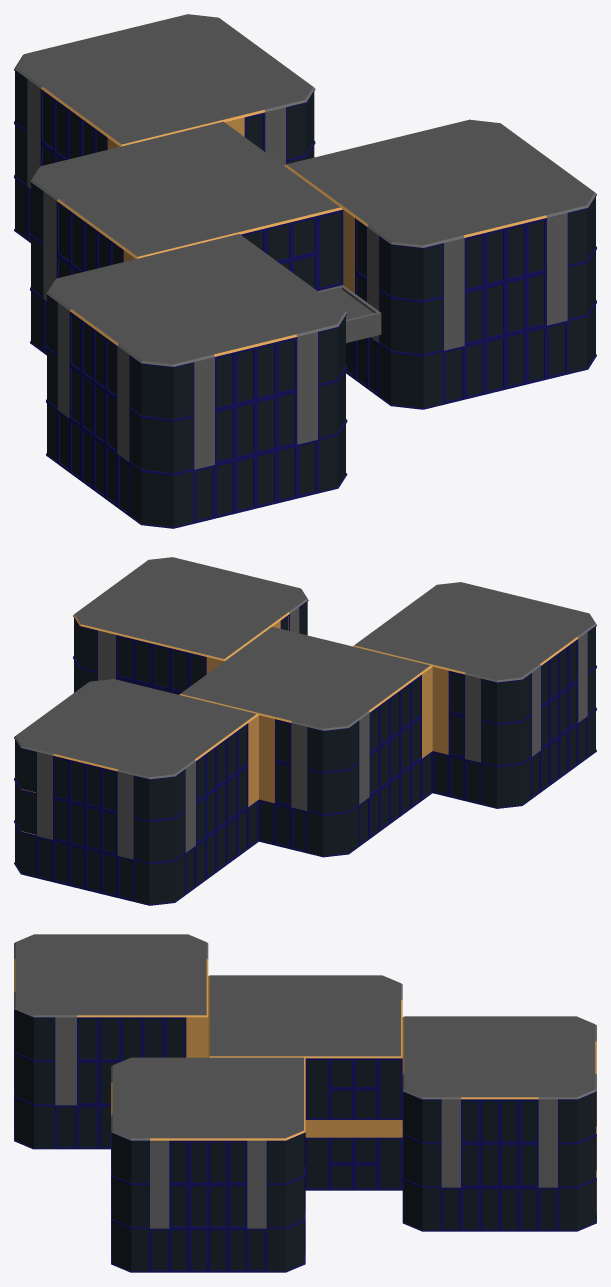
3 views of the same model, one above another, from view 1: azimuth 30°, elevation 25°; view 2: azimuth 150°, elevation 25°; view 3: azimuth 270°, elevation 25° (orthographic). The views are drawn at different scales.
Parts seen in each view (by area): view 1: Box002; view 2: Box002; view 3: Box002.
Part boxes in pixels (box(x1,y1,x2,y2)): Box002: box(14, 14, 596, 528); Box002: box(14, 557, 596, 905); Box002: box(14, 934, 596, 1272).
Bounding box in the file's own units: 197 × 59.73 × 236.
